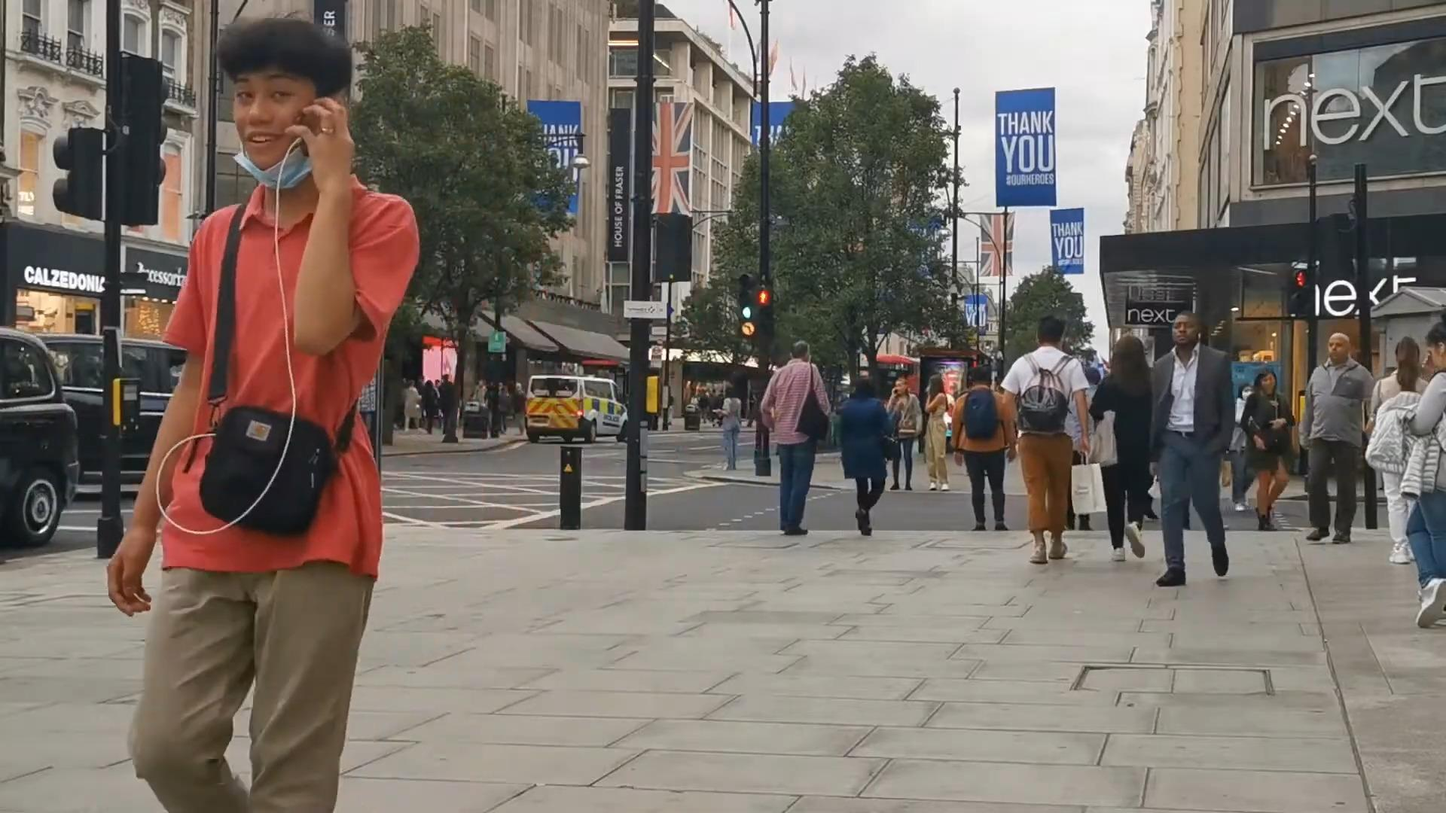no-helmet: (216, 15, 354, 191), (1111, 336, 1149, 391), (1425, 308, 1446, 370), (1171, 310, 1202, 347), (1395, 336, 1420, 381), (1037, 313, 1067, 347), (1327, 332, 1351, 363), (850, 379, 876, 402), (1253, 370, 1277, 393), (789, 340, 812, 363), (971, 364, 993, 387), (928, 375, 944, 394), (895, 378, 909, 395)
